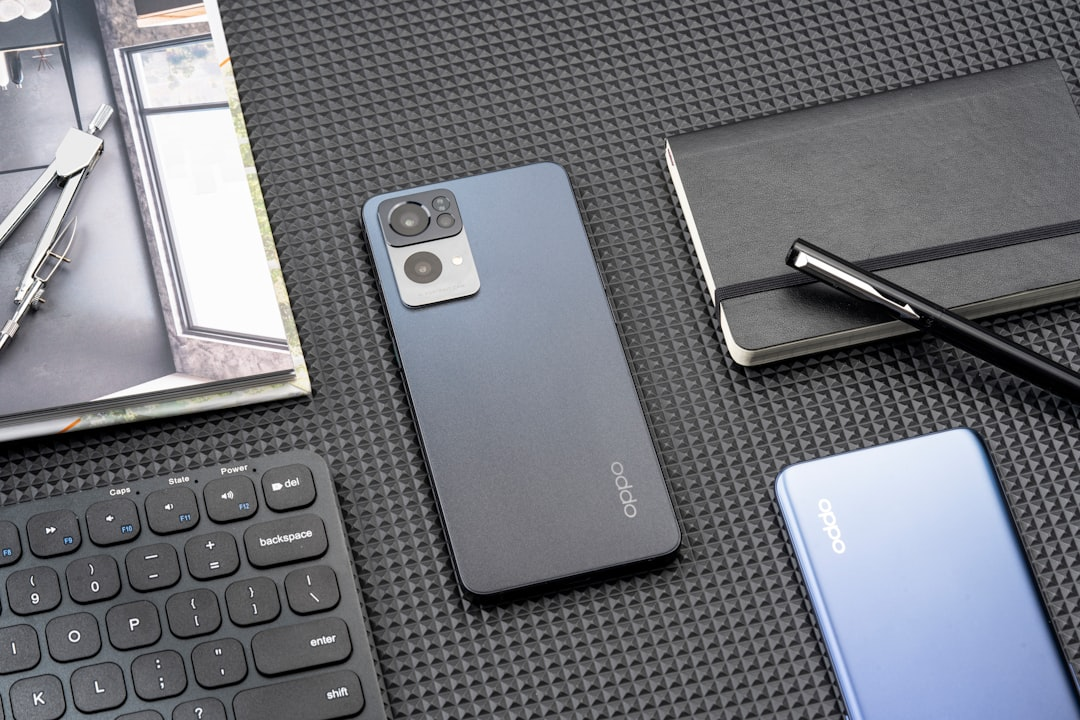phone: (360, 159, 682, 601)
